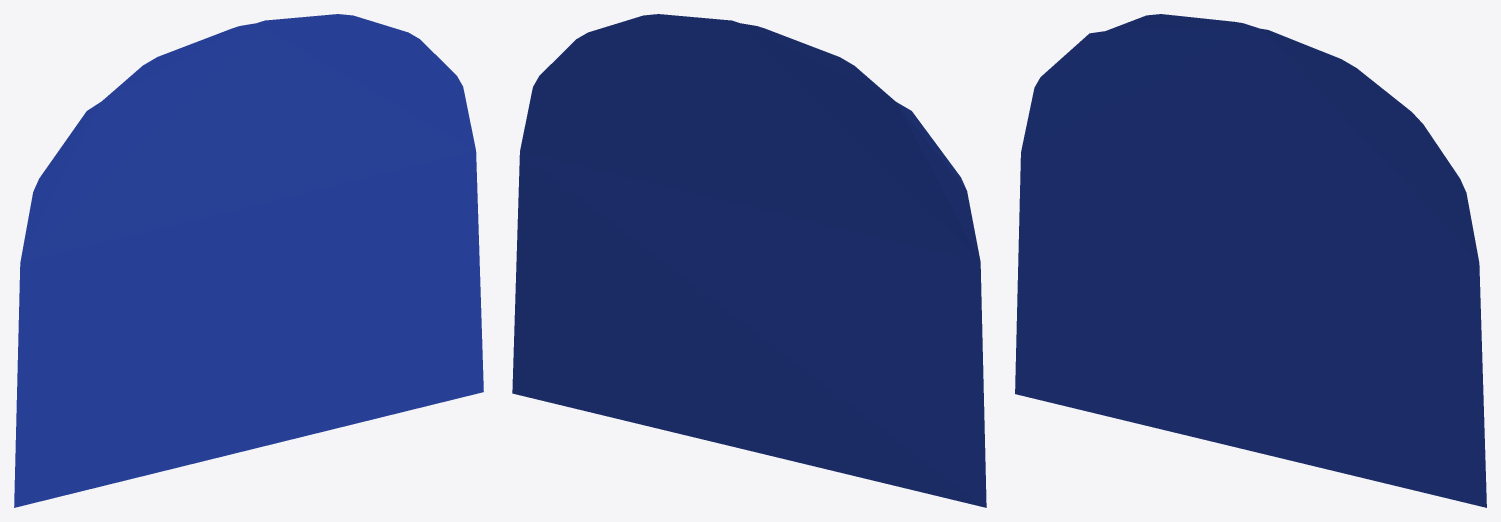
Rendered from jendela.obj.
The picture shows the model from 3 angles, left to right: view 1: azimuth 30°, elevation 25°; view 2: azimuth 150°, elevation 25°; view 3: azimuth 330°, elevation 25°; orthographic projection.
Visible parts, largest first — view 1: Cube.006_Cube.088; view 2: Cube.006_Cube.088; view 3: Cube.006_Cube.088.
Part boxes in pixels (x1,y1,x2,y2): Cube.006_Cube.088: [14, 14, 483, 507]; Cube.006_Cube.088: [512, 14, 986, 507]; Cube.006_Cube.088: [1015, 14, 1486, 507].
Bounding box in the file's own units: 2.24 × 1.94 × 0.0122.
